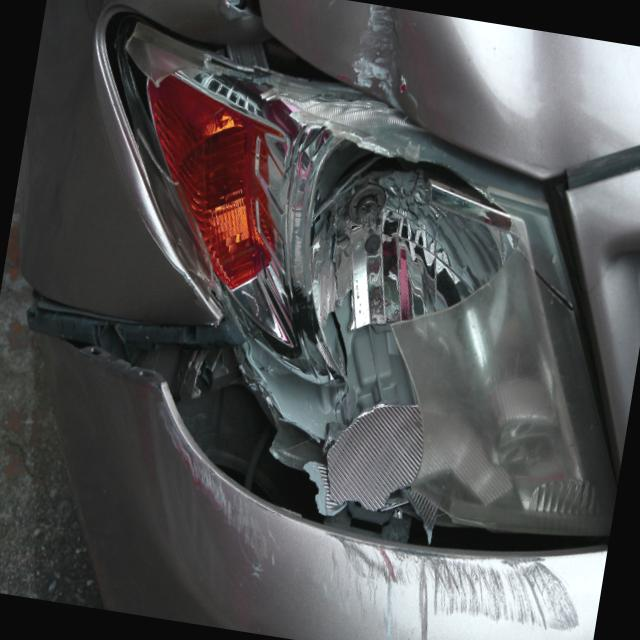Cabossage: (408, 13, 594, 170)
Dechirure: (0, 269, 246, 462)
Phare abime: (35, 18, 544, 581)
Rayure: (119, 401, 619, 640)
